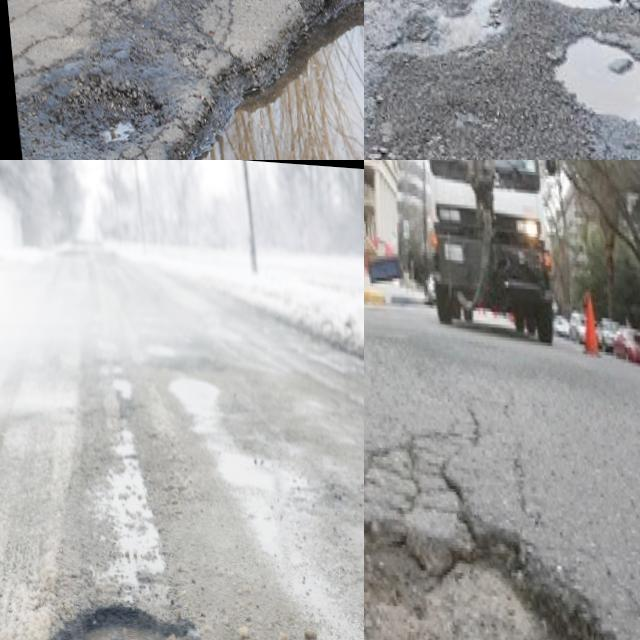Potholes: (364, 445, 640, 640), (122, 0, 364, 160), (12, 35, 181, 160), (0, 563, 247, 640), (539, 0, 640, 160), (364, 0, 511, 95), (475, 106, 625, 160), (475, 0, 636, 37)
